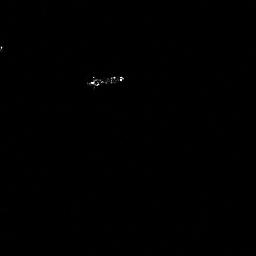ship: (83, 71, 129, 90)
